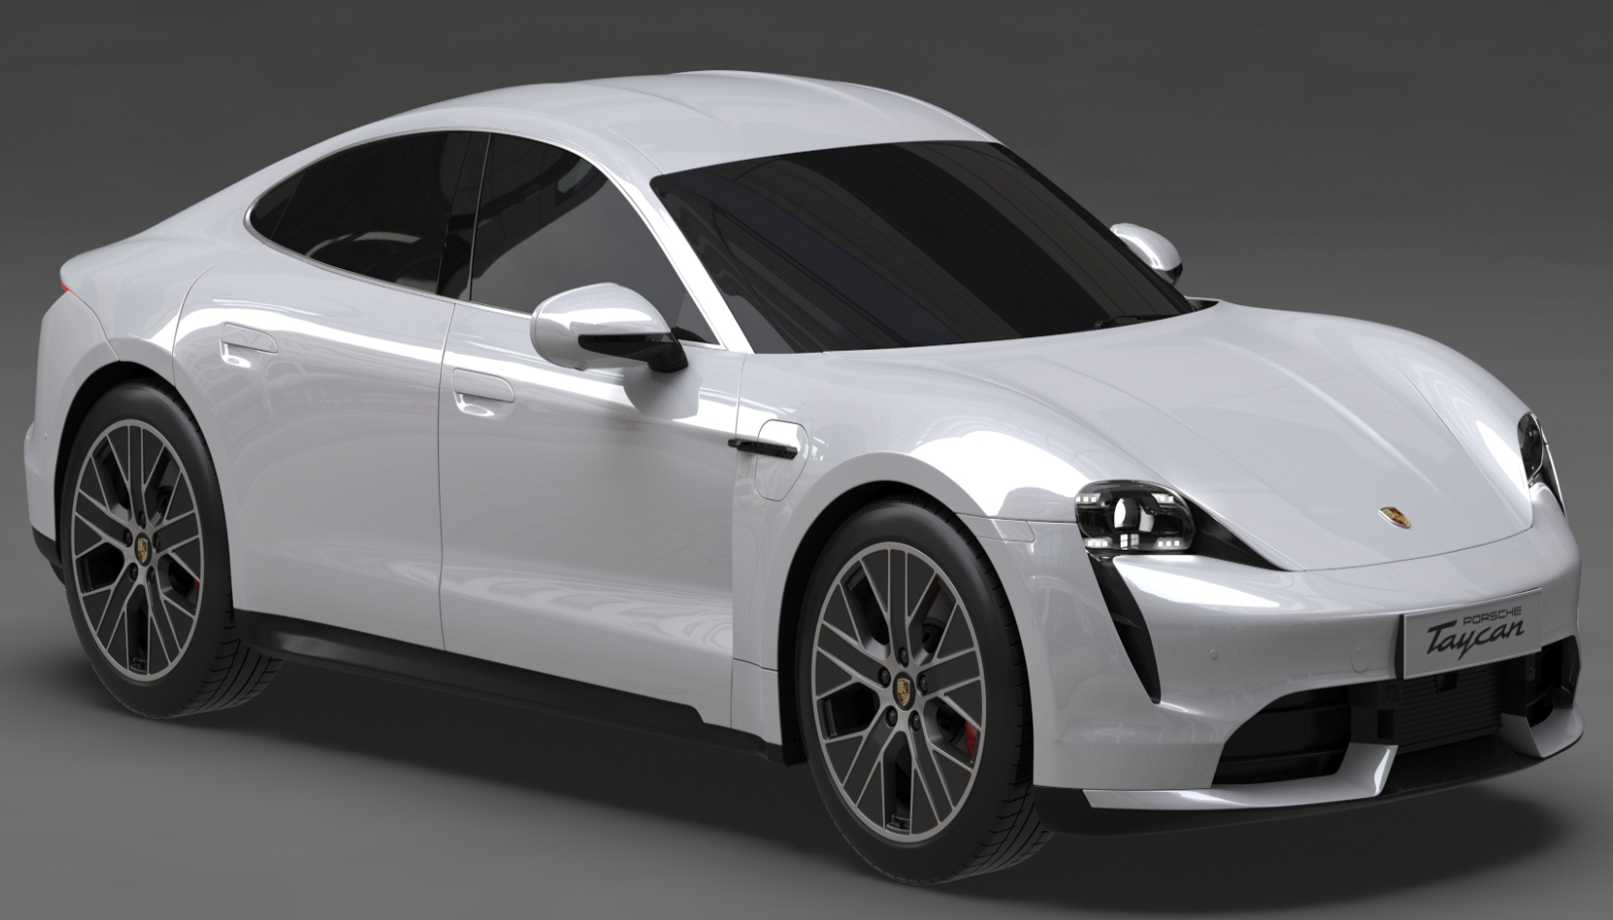hatch: (744, 408, 816, 510)
